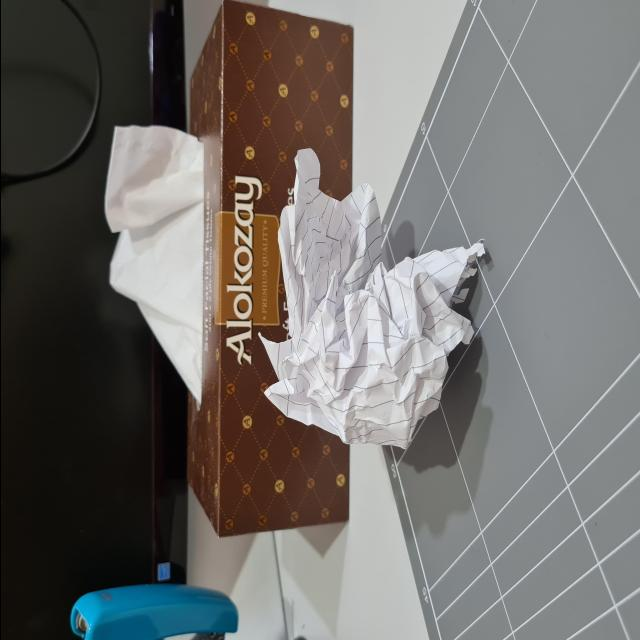kertas: (272, 150, 472, 468)
